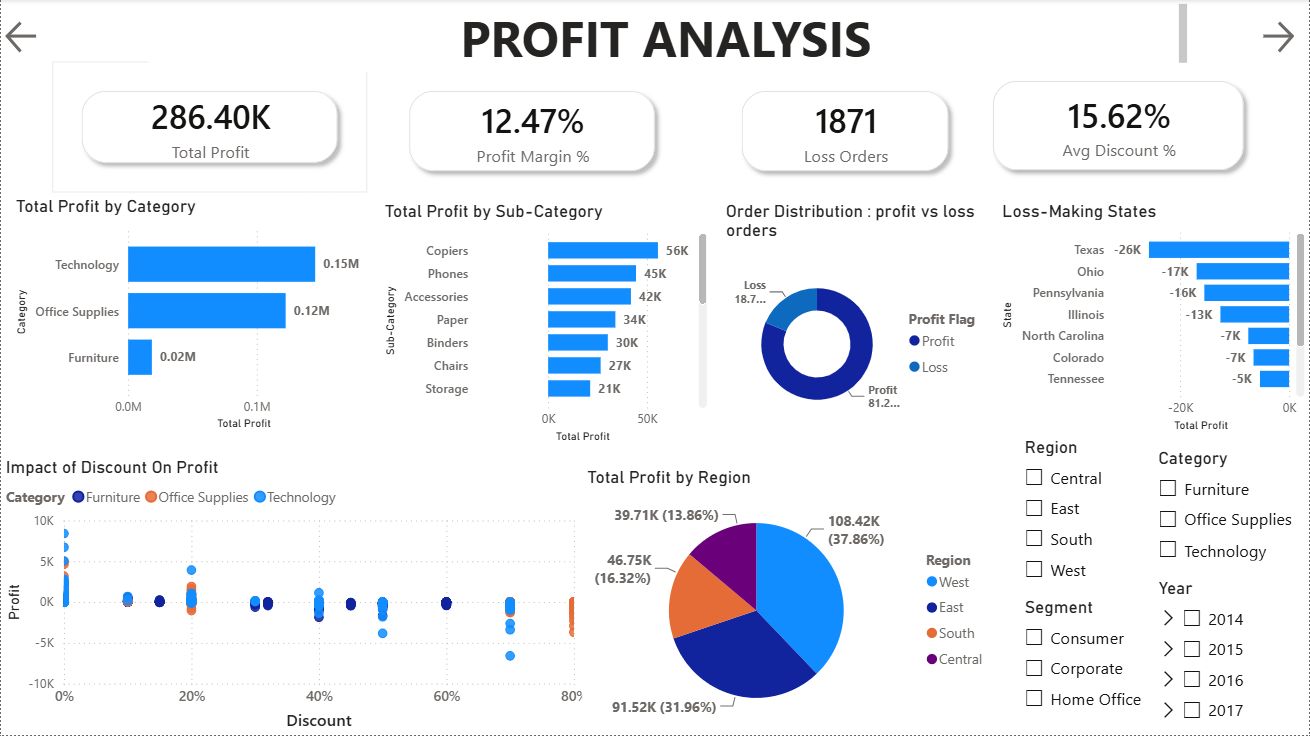

The dashboard page shown, as its layout file describes it:
{"tool":"powerbi","page":{"name":"Profit Analysis","canvas":[1280,720],"ordinal":1},"visuals":[{"type":"cardVisual","fields":{"Data":["sales_dataset.Total Profit"]},"box":[50.1,61.1,308.2,128.4],"z":0},{"type":"cardVisual","fields":{"Data":["sales_dataset.Profit Margin %"]},"box":[370.5,61.1,298.4,137],"z":1000},{"type":"cardVisual","fields":{"Data":["sales_dataset.Avg Discount %"]},"box":[941.6,51.4,303.3,145.5],"z":2000},{"type":"clusteredBarChart","fields":{"Category":["sales_dataset.Category"],"Y":["sales_dataset.Total Profit"]},"box":[9.8,192,360.7,234.8],"z":3000},{"type":"clusteredBarChart","fields":{"Category":["sales_dataset.Sub-Category"],"Y":["sales_dataset.Total Profit"]},"box":[370.5,196.9,325.3,242.1],"z":4000},{"type":"donutChart","title":"Order Distribution : profit vs loss orders","fields":{"Category":["sales_dataset.Profit Flag"],"Y":["CountNonNull(sales_dataset.Profit Flag)"]},"box":[704.4,196.9,270.2,243.3],"z":5000},{"type":"scatterChart","title":"Impact of Discount On Profit","fields":{"X":["sales_dataset.Discount"],"Series":["sales_dataset.Category"],"Y":["sales_dataset.Profit"]},"box":[0,447.6,579.6,272.7],"z":6000},{"type":"clusteredBarChart","title":"Loss-Making States","fields":{"Category":["sales_dataset.State"],"Y":["sales_dataset.Total Profit"]},"box":[974.6,196.9,305.7,231.1],"z":7000},{"type":"textbox","box":[144.3,0,1021.1,70.9],"z":8000},{"type":"actionButton","box":[1228.9,17.1,51.4,40.4],"z":9000},{"type":"actionButton","box":[0,17.1,100.3,40.4],"z":10000},{"type":"listSlicer","fields":{"Values":["sales_dataset.Region"]},"box":[996.6,428,132.1,156.5],"z":11000},{"type":"listSlicer","fields":{"Values":["sales_dataset.Category"]},"box":[1127.5,439,152.9,127.2],"z":12000},{"type":"listSlicer","fields":{"Values":["sales_dataset.Segment"]},"box":[996.6,584.5,132.1,135.7],"z":13000},{"type":"listSlicer","fields":{"Values":["sales_dataset.Order Date.Variation.Date Hierarchy.Year","sales_dataset.Order Date.Variation.Date Hierarchy.Month","sales_dataset.Order Date.Variation.Date Hierarchy.Day"]},"box":[1127.5,566.2,152.9,149.2],"z":14000},{"type":"pieChart","fields":{"Category":["sales_dataset.Region"],"Y":["sales_dataset.Total Profit"]},"box":[568.6,457.3,406,262.9],"z":15000},{"type":"cardVisual","fields":{"Data":["sales_dataset.Loss Orders"]},"box":[695.8,61.1,260.5,137],"z":16000}]}

Visuals, with their boxes in screenshot pixels (x1, y1, x2, y2), scaled from the page's 1280x720 canvas onto the 1310x737 screenshot:
cardVisual - sales_dataset.Total Profit: [x1=51, y1=63, x2=367, y2=194]
cardVisual - sales_dataset.Profit Margin %: [x1=379, y1=63, x2=685, y2=203]
cardVisual - sales_dataset.Avg Discount %: [x1=964, y1=53, x2=1274, y2=202]
clusteredBarChart - sales_dataset.Category x sales_dataset.Total Profit: [x1=10, y1=197, x2=379, y2=437]
clusteredBarChart - sales_dataset.Sub-Category x sales_dataset.Total Profit: [x1=379, y1=202, x2=712, y2=449]
"Order Distribution : profit vs loss orders" donutChart: [x1=721, y1=202, x2=997, y2=451]
"Impact of Discount On Profit" scatterChart: [x1=0, y1=458, x2=593, y2=736]
"Loss-Making States" clusteredBarChart: [x1=997, y1=202, x2=1309, y2=438]
textbox: [x1=148, y1=0, x2=1193, y2=73]
actionButton: [x1=1258, y1=18, x2=1309, y2=59]
actionButton: [x1=0, y1=18, x2=103, y2=59]
listSlicer - sales_dataset.Region: [x1=1020, y1=438, x2=1155, y2=598]
listSlicer - sales_dataset.Category: [x1=1154, y1=449, x2=1309, y2=580]
listSlicer - sales_dataset.Segment: [x1=1020, y1=598, x2=1155, y2=736]
listSlicer - sales_dataset.Order Date.Variation.Date Hierarchy.Year x sales_dataset.Order Date.Variation.Date Hierarchy.Month: [x1=1154, y1=580, x2=1309, y2=732]
pieChart - sales_dataset.Region x sales_dataset.Total Profit: [x1=582, y1=468, x2=997, y2=736]
cardVisual - sales_dataset.Loss Orders: [x1=712, y1=63, x2=979, y2=203]
